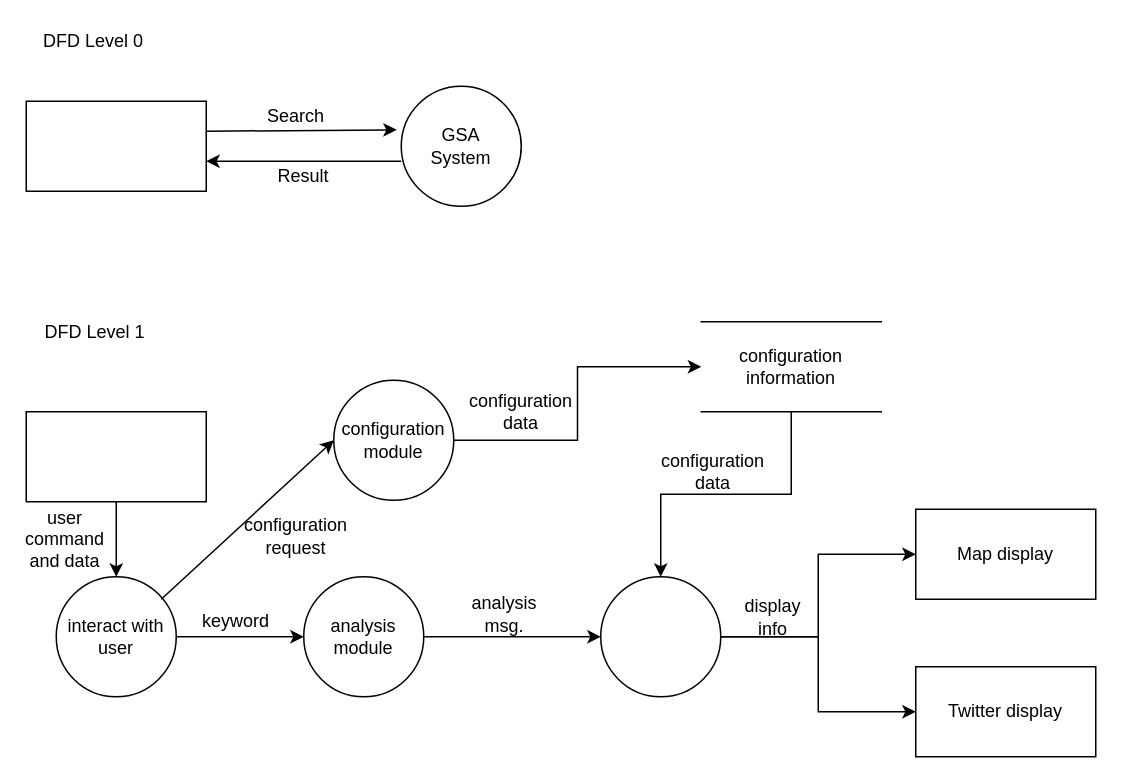
Image size: 1122x783. Some labels were removed from this diagram. Here are the shapes that lost their labels. From the top down, the centre of each, then its label:
At point 115,145: "User".
At point 115,456: "Web page".
At point 660,636: "display analysis result".
